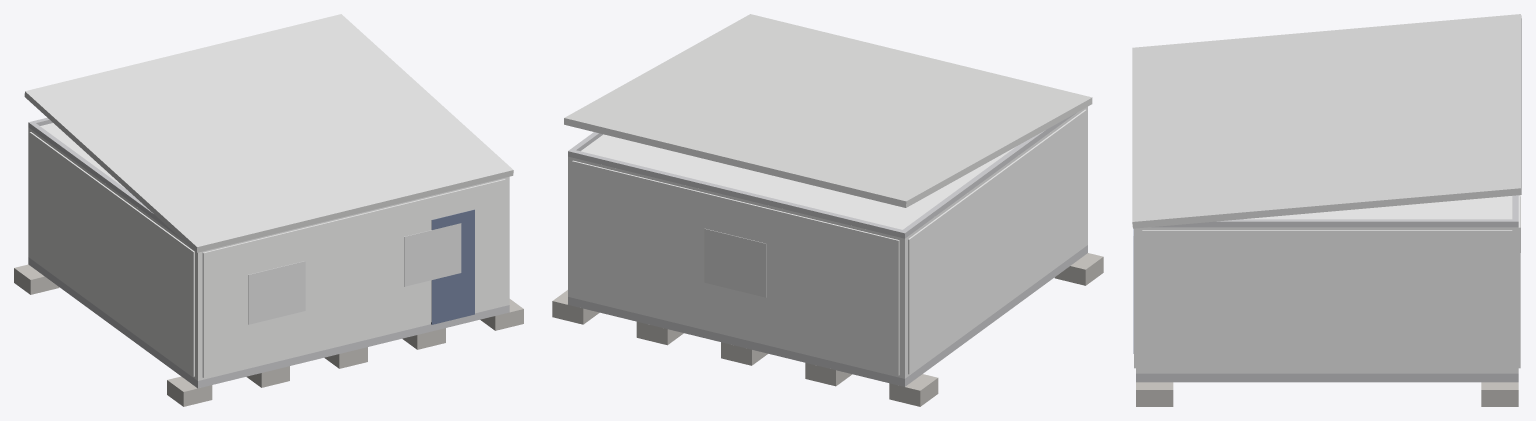
File: Studio-20-SlopingRoof-LOD0.glb
3 views of the same model, side by side, from view 1: azimuth 30°, elevation 25°; view 2: azimuth 150°, elevation 25°; view 3: azimuth 270°, elevation 25° (orthographic). The views are drawn at different scales.
Visible parts, largest first — view 1: RoofSlopingUpgrade, ExteriorPanelsStandard, WindowsStandard, FoundationBlocks, ExteriorShell, BaseFrame, EntryDoor, TopFrame, InteriorCeiling; view 2: ExteriorPanelsStandard, RoofSlopingUpgrade, InteriorCeiling, ExteriorShell, FoundationBlocks, TopFrame, BaseFrame, WindowsStandard; view 3: RoofSlopingUpgrade, ExteriorPanelsStandard, ExteriorShell, BaseFrame, InteriorCeiling, TopFrame, FoundationBlocks.
Part boxes in pixels (bbox=[...]): RoofSlopingUpgrade: bbox=[24, 14, 513, 252]; ExteriorPanelsStandard: bbox=[29, 132, 505, 377]; WindowsStandard: bbox=[248, 223, 461, 324]; FoundationBlocks: bbox=[14, 264, 523, 406]; ExteriorShell: bbox=[28, 127, 509, 380]; BaseFrame: bbox=[28, 257, 509, 388]; EntryDoor: bbox=[431, 209, 474, 324]; TopFrame: bbox=[28, 117, 181, 239]; InteriorCeiling: bbox=[40, 123, 125, 188]; ExteriorPanelsStandard: bbox=[572, 109, 1086, 375]; RoofSlopingUpgrade: bbox=[564, 14, 1092, 207]; InteriorCeiling: bbox=[581, 134, 1016, 229]; ExteriorShell: bbox=[568, 106, 1087, 378]; FoundationBlocks: bbox=[552, 253, 1103, 406]; TopFrame: bbox=[568, 113, 1075, 238]; BaseFrame: bbox=[568, 245, 1087, 386]; WindowsStandard: bbox=[704, 228, 766, 297]; RoofSlopingUpgrade: bbox=[1132, 14, 1521, 228]; ExteriorPanelsStandard: bbox=[1134, 195, 1520, 371]; ExteriorShell: bbox=[1136, 227, 1518, 373]; BaseFrame: bbox=[1136, 373, 1518, 382]; InteriorCeiling: bbox=[1244, 196, 1512, 219]; TopFrame: bbox=[1151, 195, 1518, 227]; FoundationBlocks: bbox=[1136, 382, 1518, 406].
Size of the model in its own units: 7.14 by 3.77 by 6.27.
